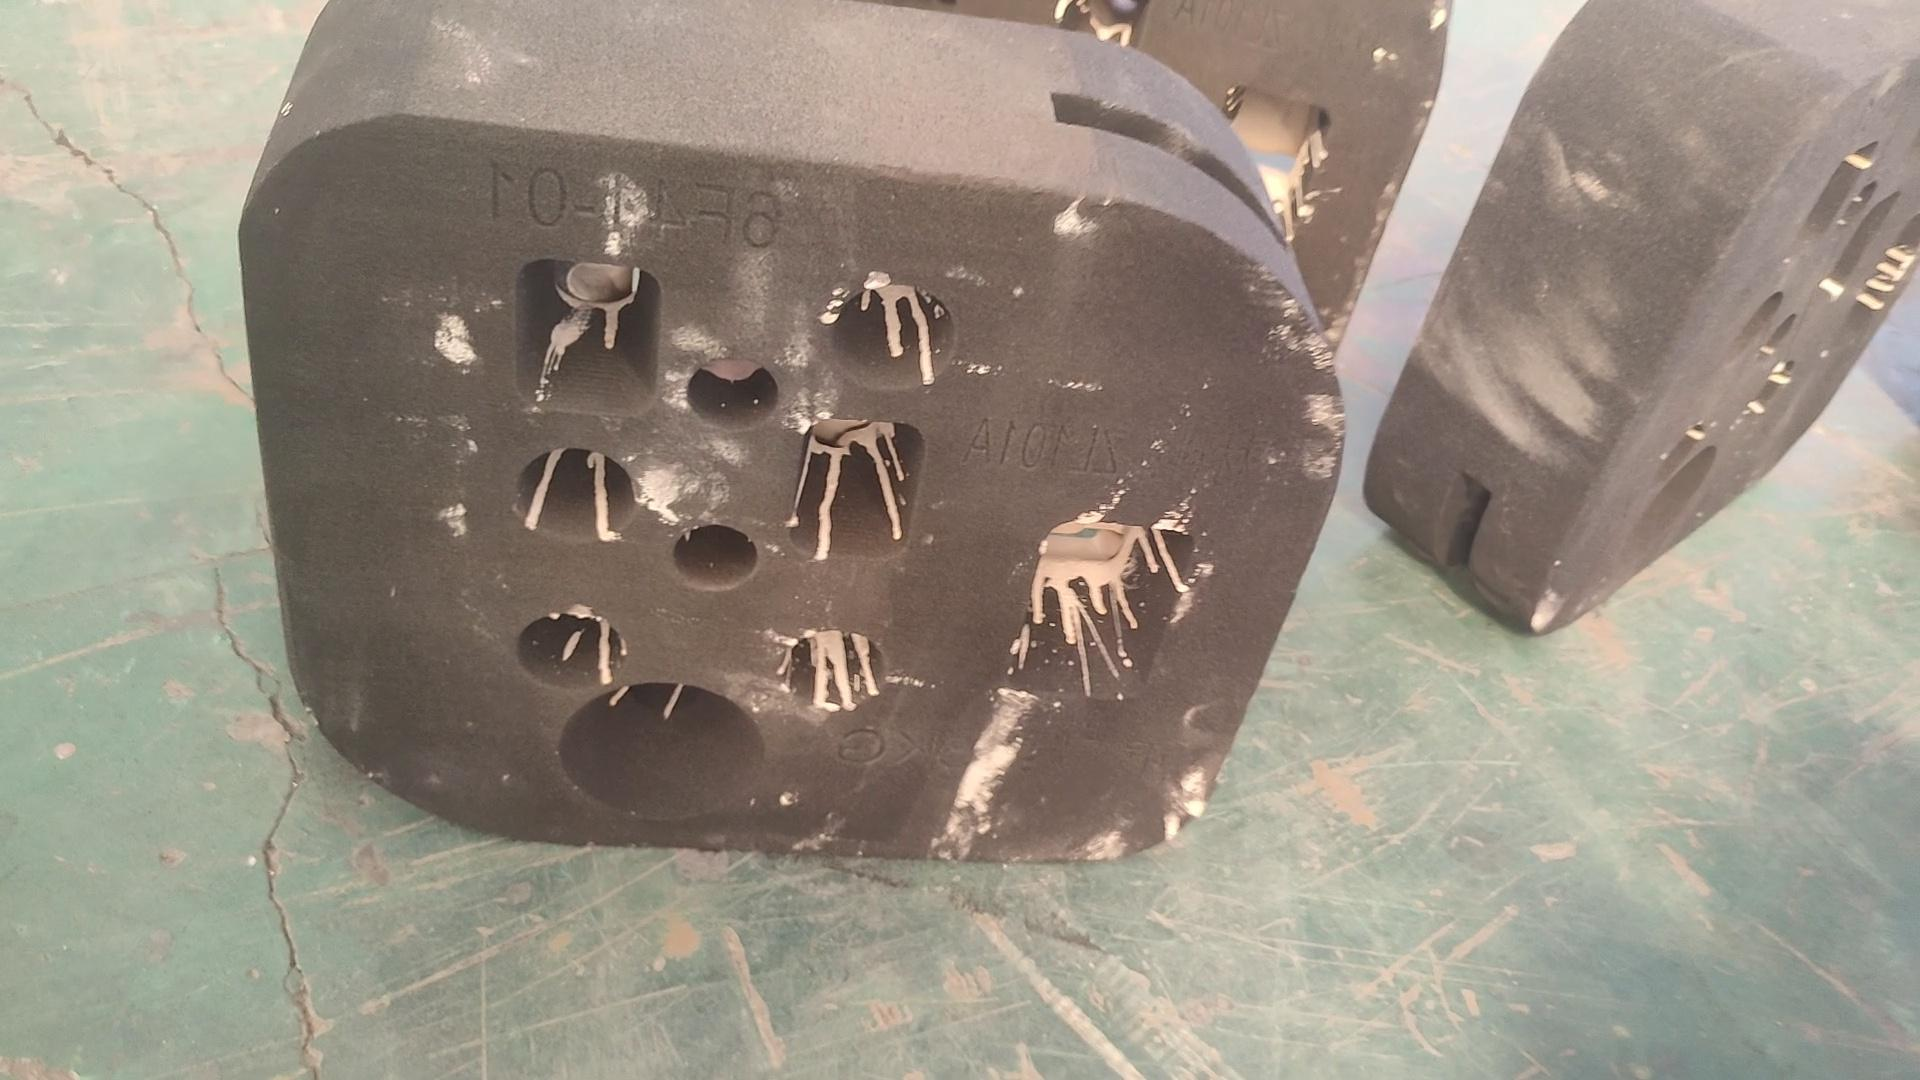pouring hole: (556, 682, 765, 827), (1619, 444, 1718, 571)
